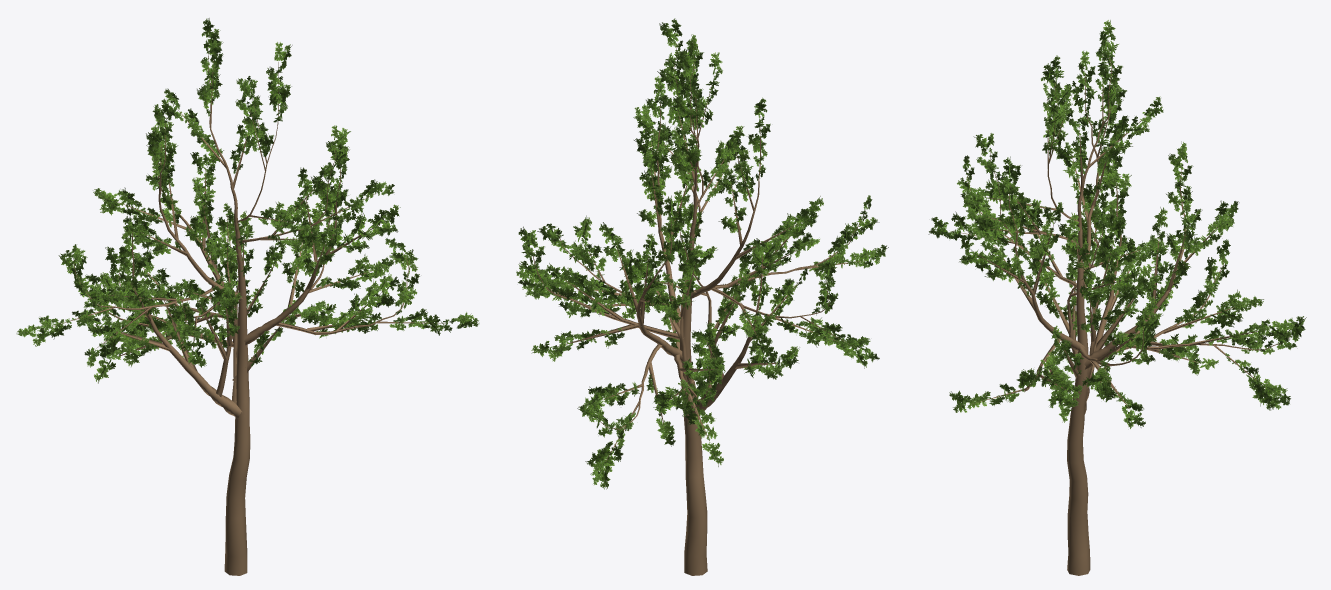
The model's file is street-lod0.glb.
3 renders of one model, left to right at view 1: azimuth 30°, elevation 25°; view 2: azimuth 150°, elevation 25°; view 3: azimuth 270°, elevation 25°, orthographic.
Visible parts, largest first — view 1: leaf cards, branches; view 2: leaf cards, branches; view 3: leaf cards, branches.
Part boxes in pixels (x1,y1,x2,y2): leaf cards: [16, 18, 479, 383]; branches: [52, 40, 444, 575]; leaf cards: [516, 18, 888, 489]; branches: [531, 43, 865, 575]; leaf cards: [928, 20, 1306, 428]; branches: [951, 40, 1290, 575].
Bounding box in the file's own units: 5.97 × 8 × 5.21.
2 materials, 1 textured.
